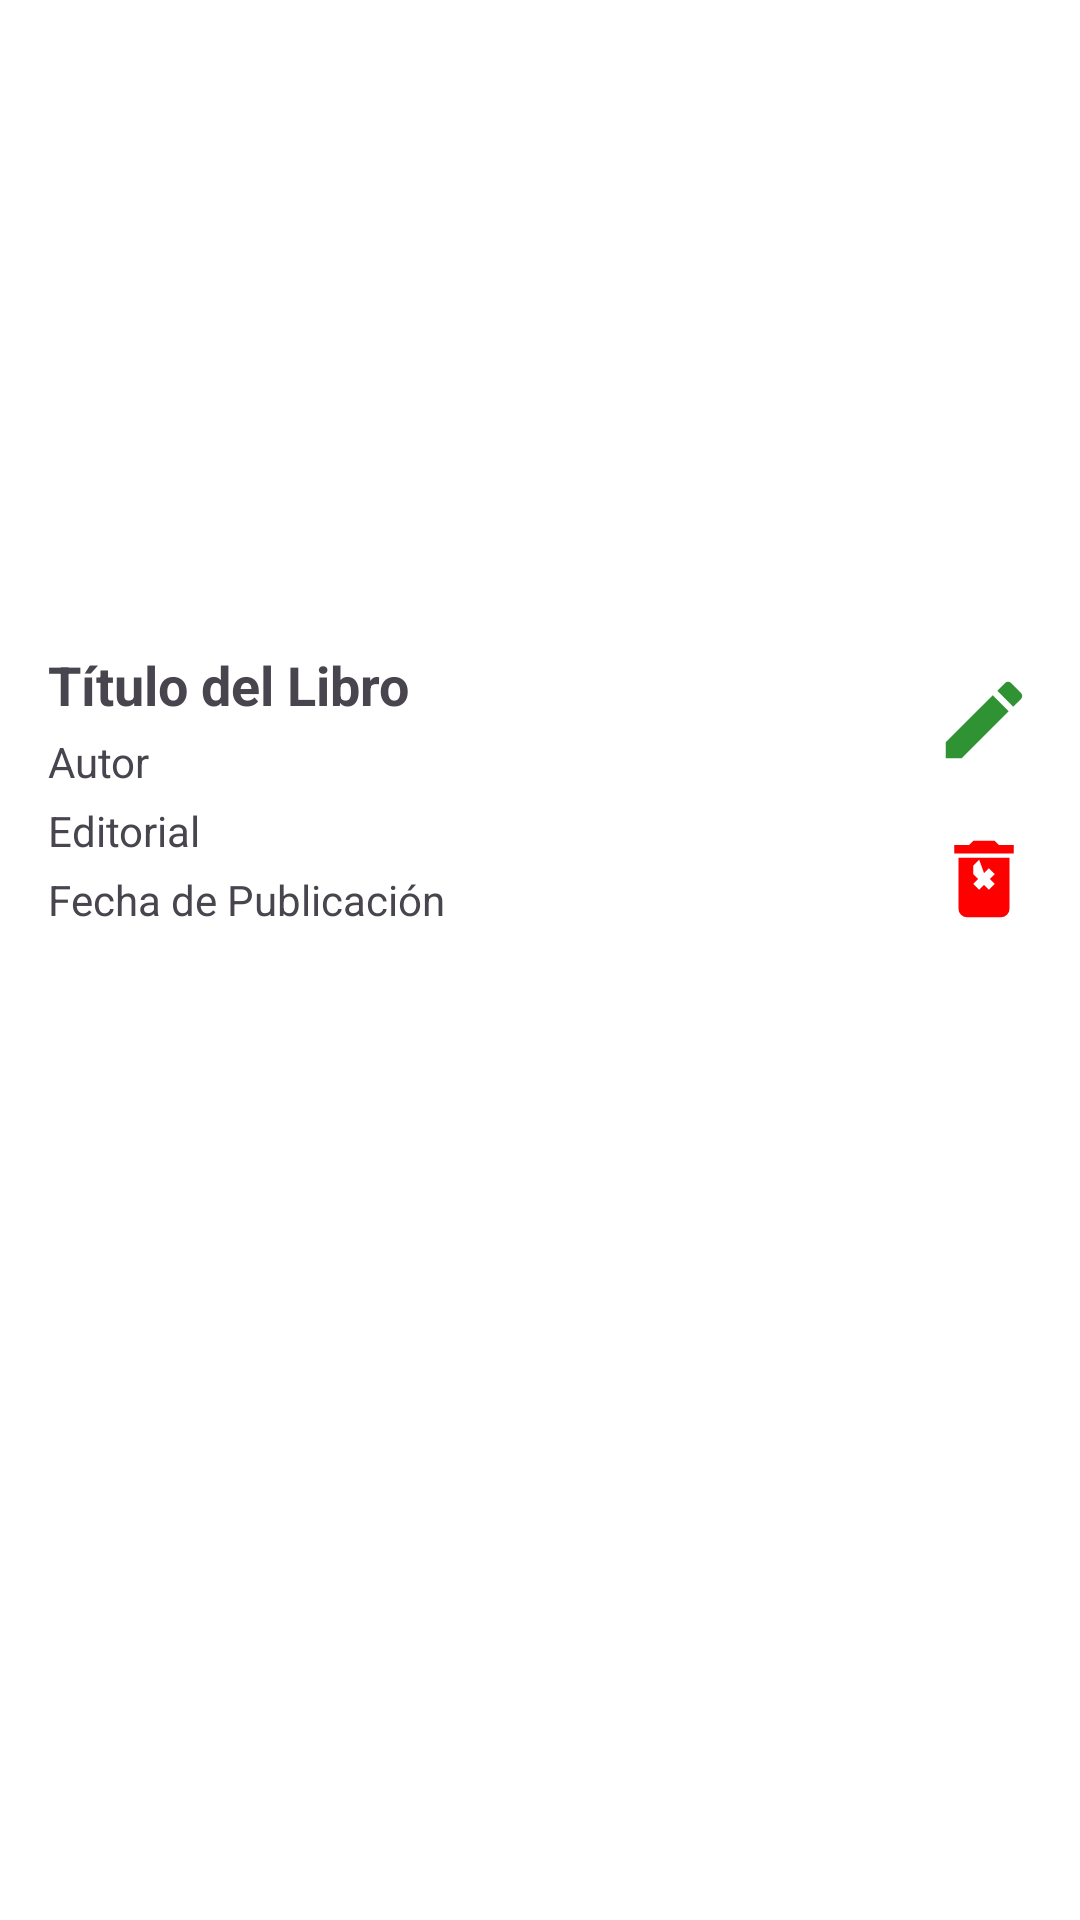

Named icons in this screenshot (1080w x 1920h) and their bounding boxes, [x1,y1,x2,y2]:
Editar libro: [945,681,1023,759]
Eliminar libro: [954,840,1014,918]
